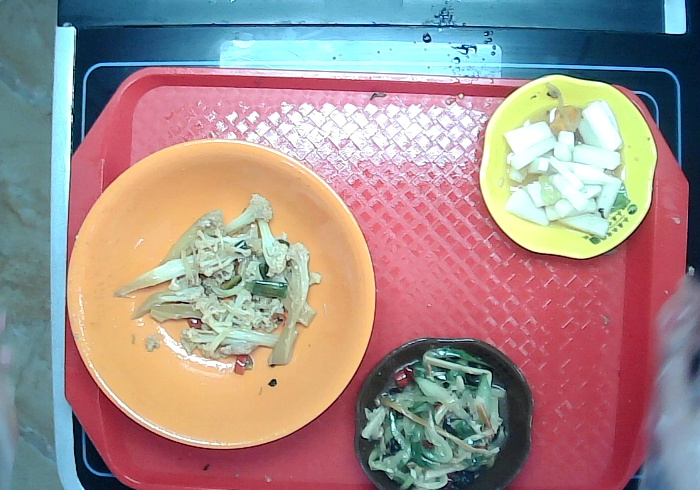YKMZ-Huang_Se_Ao_Bian_Wan: (474, 74, 660, 263)
YKMZ-Ju_Se_Tang_Wan: (68, 139, 377, 449)
YKMZ-Ka_Fei_Ao_Bian_Wan: (355, 336, 532, 490)
